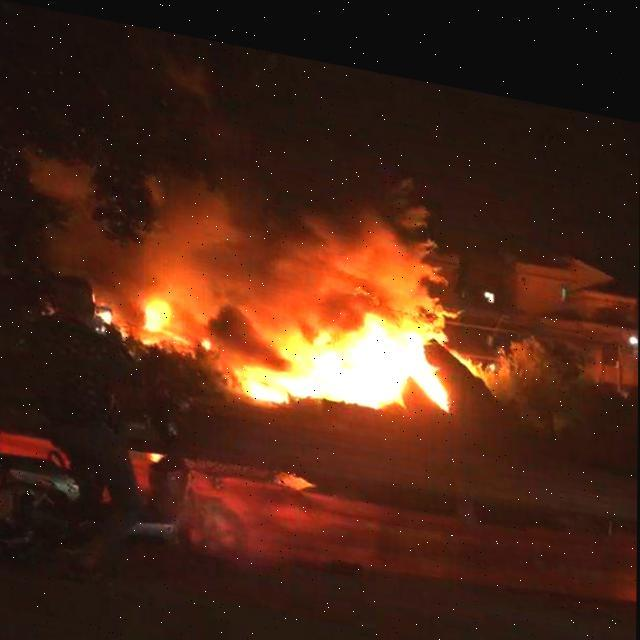Fire: (138, 268, 474, 424)
